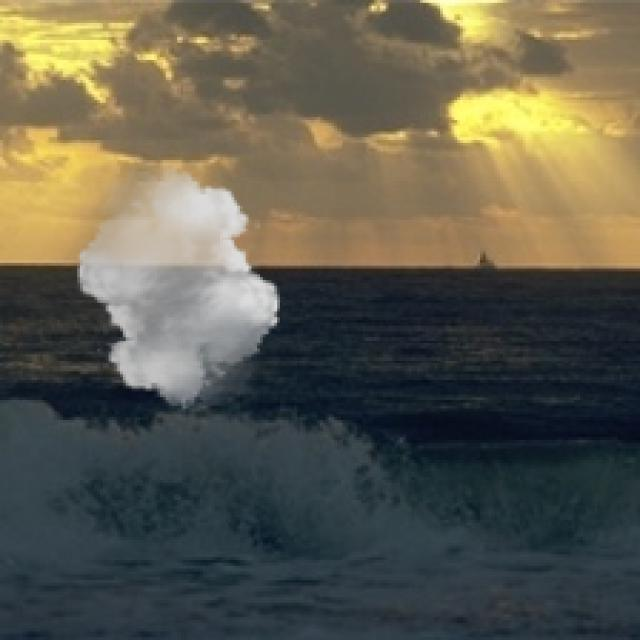Smoke: (69, 166, 288, 411)
